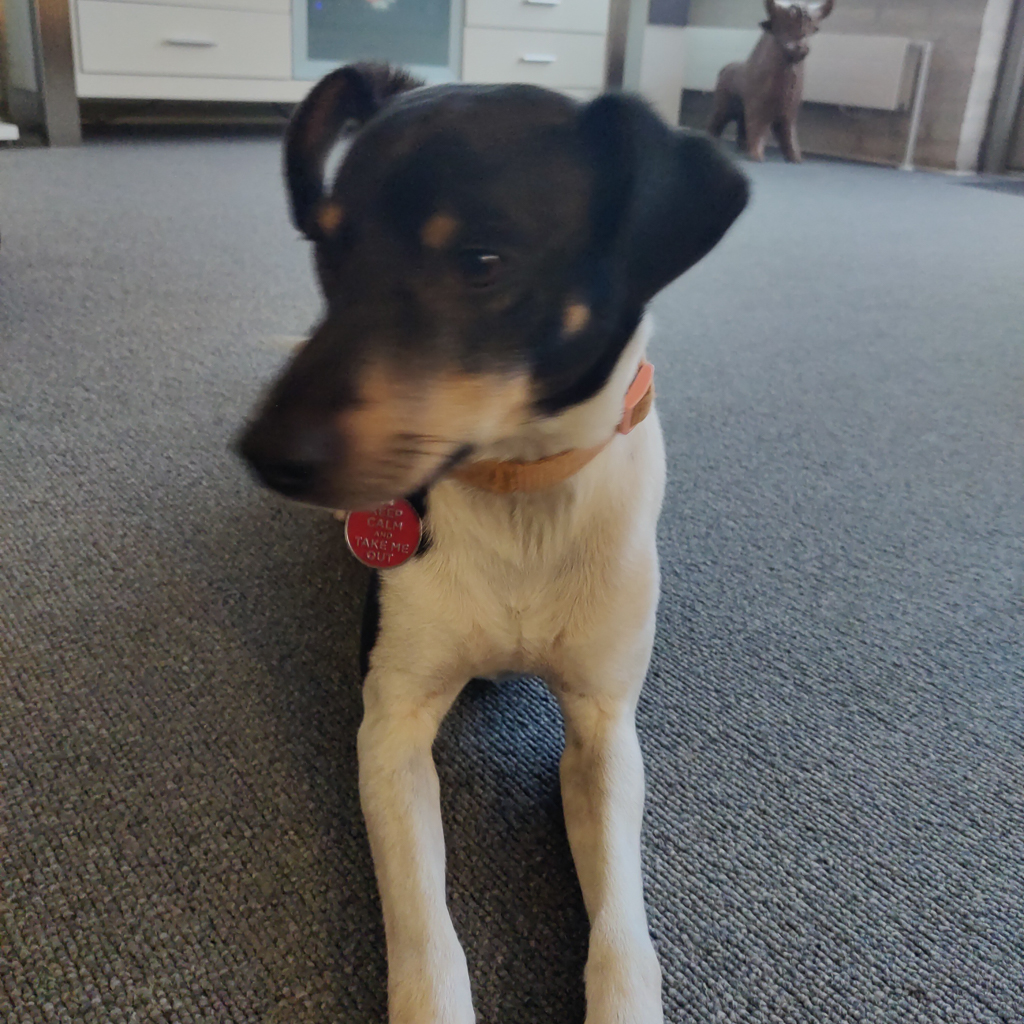Cattle: (691, 0, 838, 175)
Dog: (216, 33, 766, 1024)
